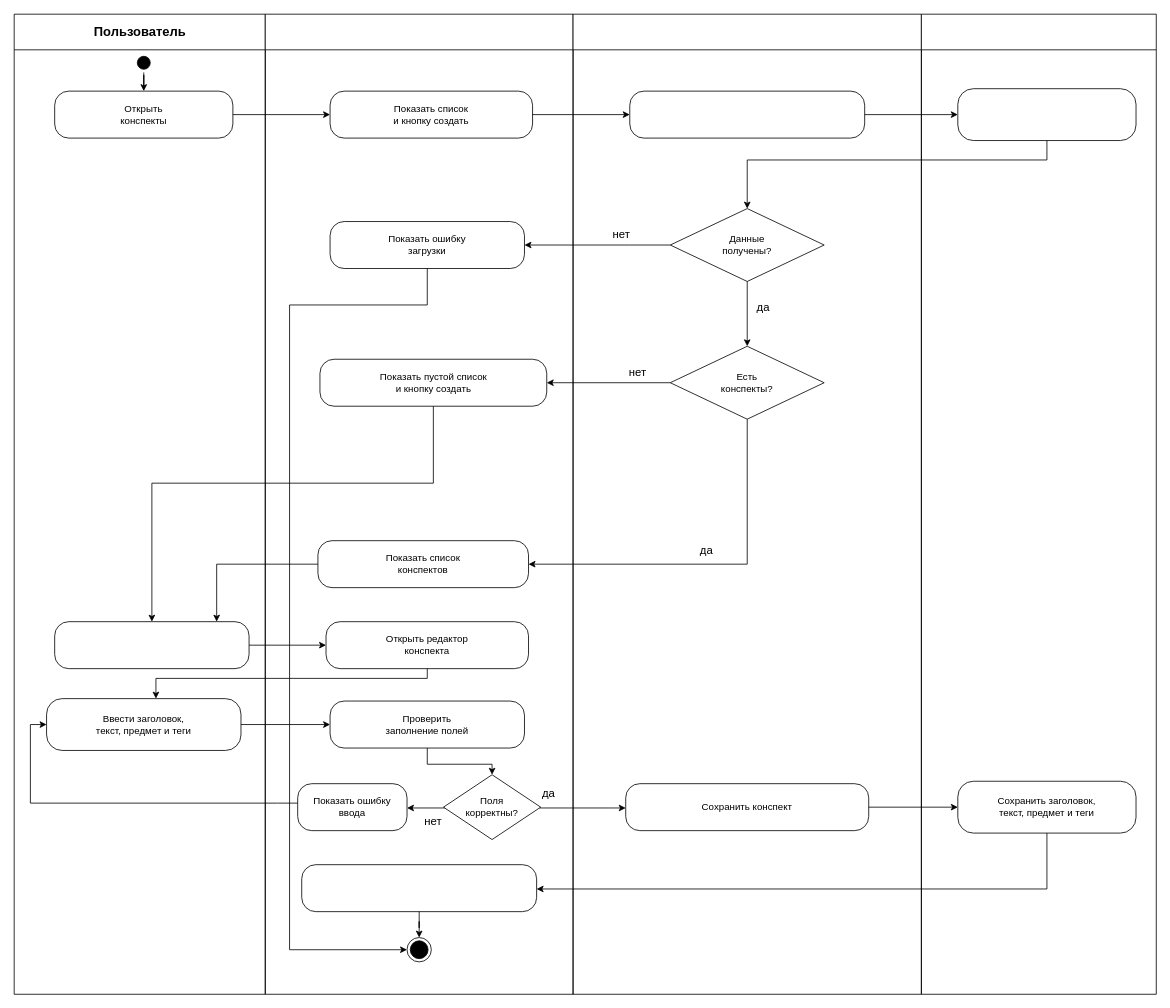
Image size: 1170x1008. Some labels were removed from this diagram. The box of each missing label's shape, as (x1, y1, x2, y2) in pixels:
Выбрать или создать конспект: (54, 621, 249, 669)
Запросить список конспектов (userId): (629, 90, 865, 138)
Интерфейс системы: (264, 13, 573, 994)
Локальное хранилище: (921, 13, 1156, 994)
Модуль конспектов: (572, 13, 921, 994)
Показать обновлённый конспект или список: (301, 864, 537, 912)
Получить конспекты из хранилища: (957, 88, 1136, 141)
